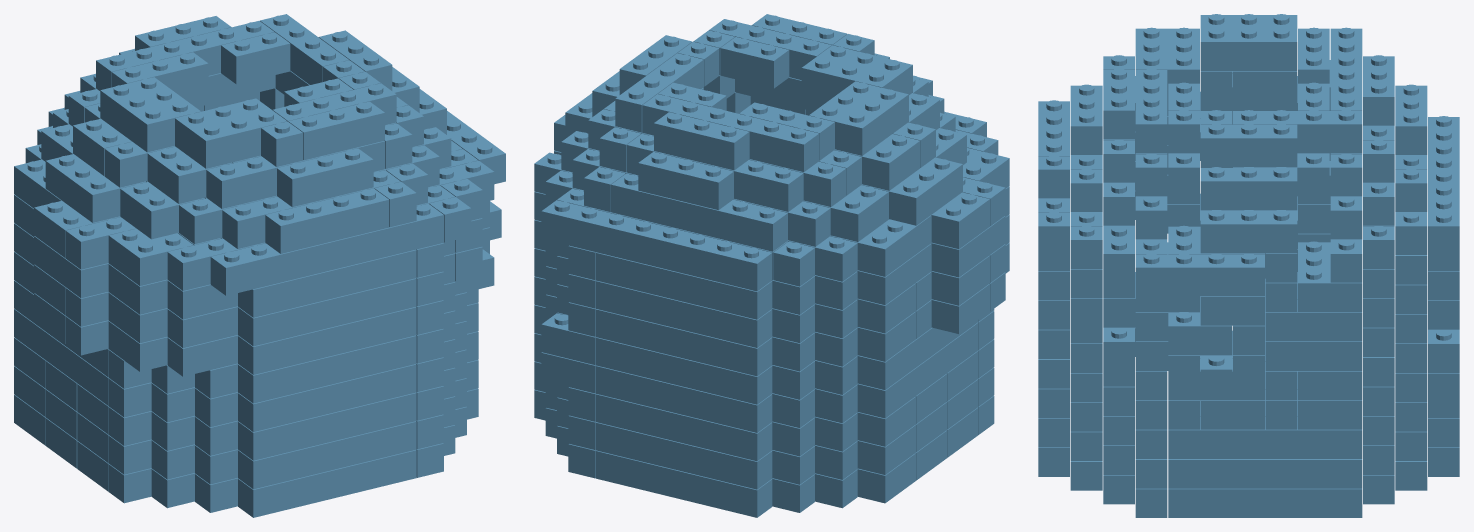
File: 130_camera_L5.glb
3 views of the same model, side by side, from view 1: azimuth 30°, elevation 25°; view 2: azimuth 150°, elevation 25°; view 3: azimuth 270°, elevation 25° (orthographic). The views are drawn at different scales.
Size of the model in its own units: 15.98 by 12.13 by 12.98.
